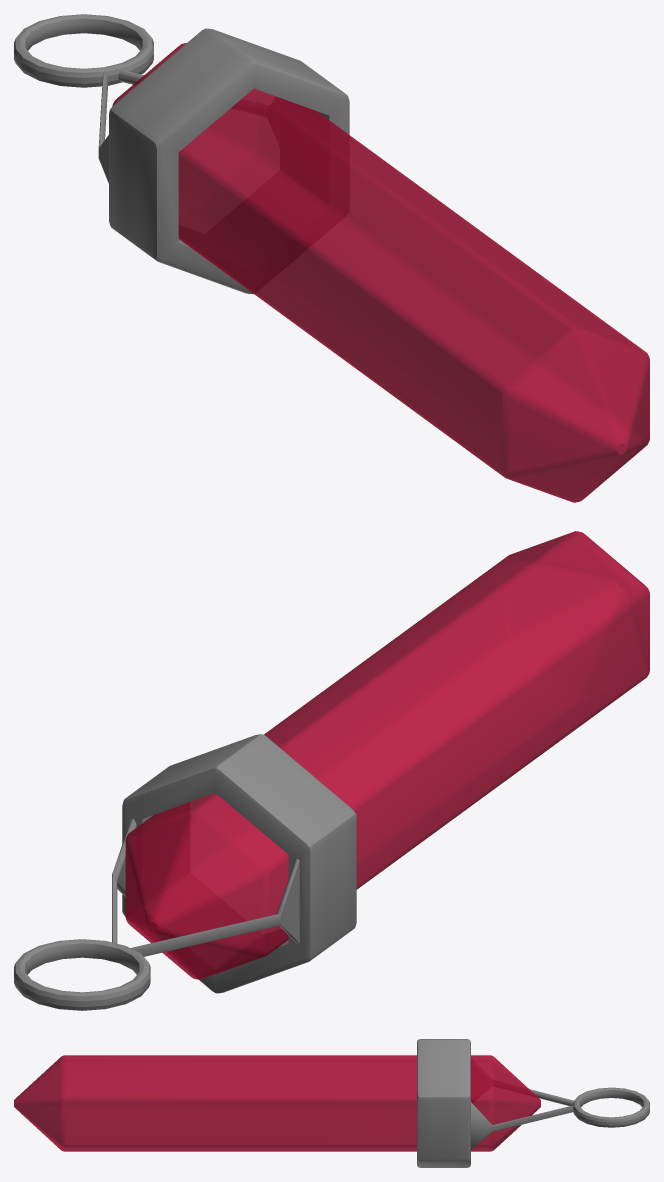
File: CrystalTool001.FBX
The picture shows the model from 3 angles, top to bottom: view 1: azimuth 30°, elevation 25°; view 2: azimuth 150°, elevation 25°; view 3: azimuth 270°, elevation 25°; orthographic projection. The views are drawn at different scales.
Parts seen in each view (by area): view 1: Cylinder002, Cylinder003, Cylinder004; view 2: Cylinder002, Cylinder003, Cylinder004; view 3: Cylinder002, Cylinder003, Cylinder004.
Part boxes in pixels (x1,y1,x2,y2): Cylinder002: (112,43,649,502); Cylinder003: (98,28,349,294); Cylinder004: (14,14,153,87); Cylinder002: (125,531,649,979); Cylinder003: (112,734,356,993); Cylinder004: (14,939,150,1010); Cylinder002: (14,1055,540,1151); Cylinder003: (417,1039,573,1167); Cylinder004: (573,1087,649,1127).
Size of the model in its own units: 0.3464 by 0.395 by 1.78.
